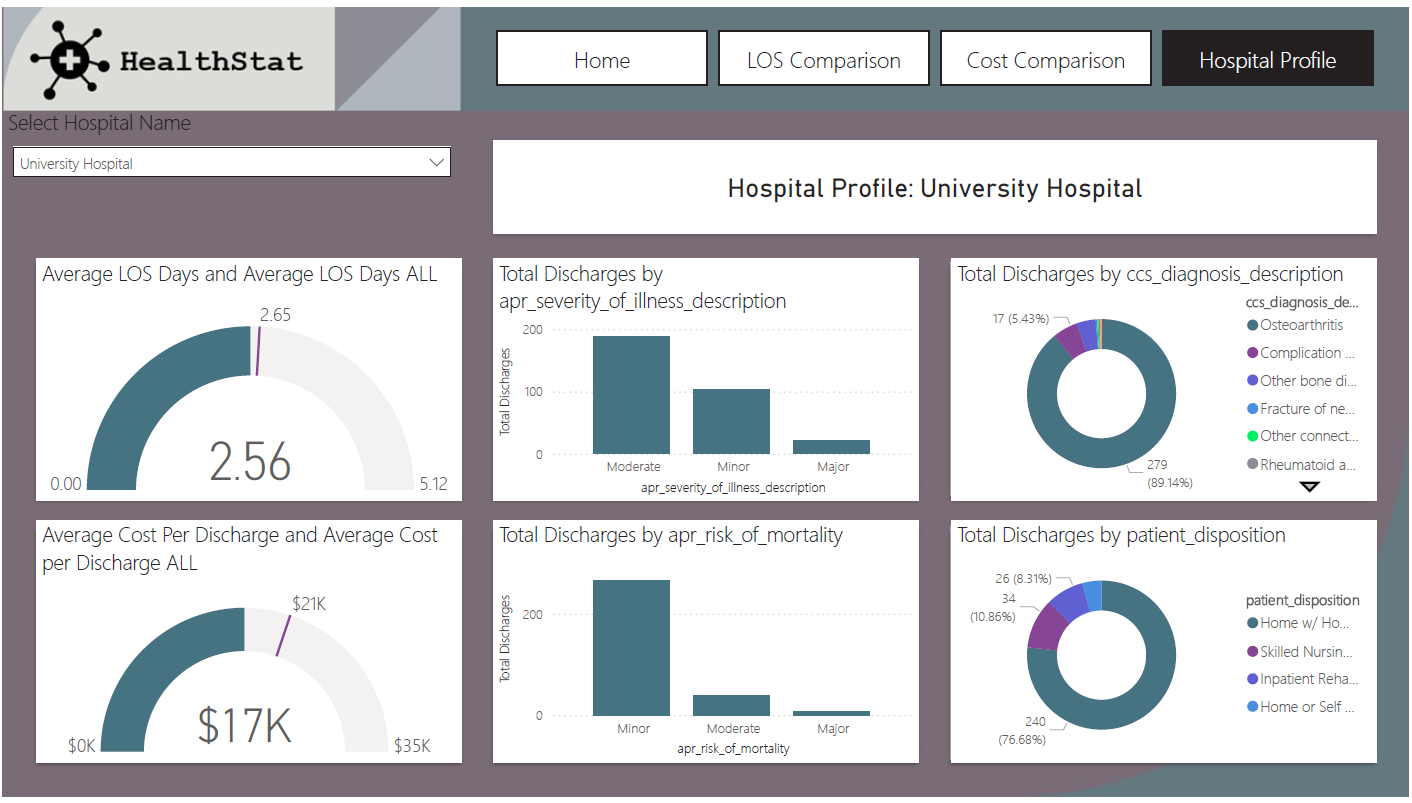

The dashboard page shown, as its layout file describes it:
{"tool":"powerbi","page":{"name":"Hospital Profile","canvas":[1280,720],"ordinal":3},"visuals":[{"type":"gauge","fields":{"Y":["_Measures.Average LOS Days"],"TargetValue":["_Measures.Average LOS Days ALL"]},"box":[30.8,229,386.9,219.6],"z":0},{"type":"gauge","fields":{"Y":["_Measures.Average Cost Per Discharge"],"TargetValue":["_Measures.Average Cost per Discharge ALL"]},"box":[30.8,467.3,386.9,219.6],"z":1000},{"type":"clusteredColumnChart","fields":{"Y":["_Measures.Total Discharges"],"Category":["hospital_inpatient_discharges_totalhipreplacement.apr_severity_of_illness_description"]},"box":[447.2,229,386.9,219.6],"z":2000},{"type":"clusteredColumnChart","fields":{"Y":["_Measures.Total Discharges"],"Category":["hospital_inpatient_discharges_totalhipreplacement.apr_risk_of_mortality"]},"box":[447.2,467.3,386.9,219.6],"z":3000},{"type":"donutChart","fields":{"Y":["_Measures.Total Discharges"],"Category":["hospital_inpatient_discharges_totalhipreplacement.ccs_diagnosis_description"]},"box":[863.6,229,386.9,219.6],"z":4000},{"type":"donutChart","fields":{"Y":["_Measures.Total Discharges"],"Category":["hospital_inpatient_discharges_totalhipreplacement.patient_disposition"]},"box":[863.6,467.3,386.9,219.6],"z":5000},{"type":"slicer","title":"Select Hospital Name","fields":{"Values":["hospital_inpatient_discharges_totalhipreplacement.facility_name"]},"box":[0,92.4,417.7,136.6],"z":6000},{"type":"card","fields":{"Values":["_Measures.Title Selected Facility"]},"box":[447.2,120.5,803.3,85.7],"z":7000},{"type":"pageNavigator","box":[449.9,21.4,799.3,49.5],"z":8000}]}

Visuals, with their boxes in screenshot pixels (x1, y1, x2, y2), scaled from the page's 1280x720 canvas onto the 1412x803 screenshot:
gauge - _Measures.Average LOS Days x _Measures.Average LOS Days ALL: region(34, 255, 461, 500)
gauge - _Measures.Average Cost Per Discharge x _Measures.Average Cost per Discharge ALL: region(34, 521, 461, 766)
clusteredColumnChart - _Measures.Total Discharges x hospital_inpatient_discharges_totalhipreplacement.apr_severity_of_illness_description: region(493, 255, 920, 500)
clusteredColumnChart - _Measures.Total Discharges x hospital_inpatient_discharges_totalhipreplacement.apr_risk_of_mortality: region(493, 521, 920, 766)
donutChart - _Measures.Total Discharges x hospital_inpatient_discharges_totalhipreplacement.ccs_diagnosis_description: region(953, 255, 1379, 500)
donutChart - _Measures.Total Discharges x hospital_inpatient_discharges_totalhipreplacement.patient_disposition: region(953, 521, 1379, 766)
"Select Hospital Name" slicer: region(0, 103, 461, 255)
card - _Measures.Title Selected Facility: region(493, 134, 1379, 230)
pageNavigator: region(496, 24, 1378, 79)
